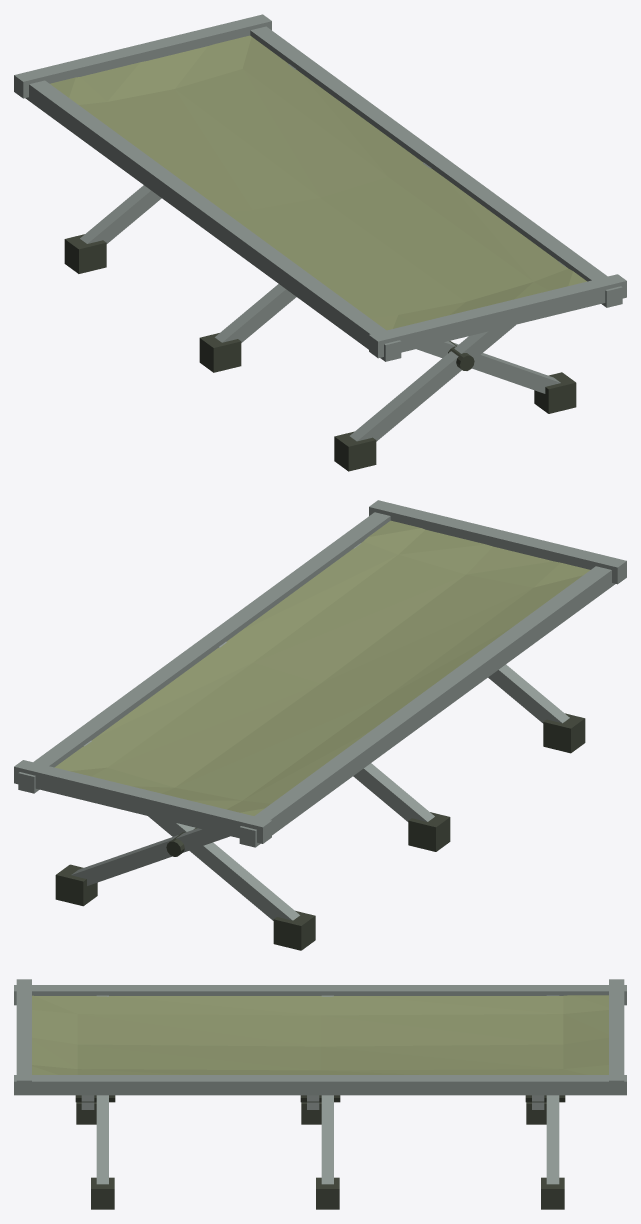
3 views of the same model, one above another, from view 1: azimuth 30°, elevation 25°; view 2: azimuth 150°, elevation 25°; view 3: azimuth 270°, elevation 25° (orthographic). The views are drawn at different scales.
Visible parts, largest first — view 1: WholeShallowSagCanvasSleepingSurface, LeftWholeLongitudinalCanvasRail, RightWholeLongitudinalCanvasRail, FootWholeRemovableStyleTensionCrossbar, HeadWholeRemovableStyleTensionCrossbar, CrossFrame0A, CrossFrame0B, CrossFrame1A, CrossFrame2A, GroundPad0L, GroundPad1L, GroundPad2L (+1 smaller); view 2: WholeShallowSagCanvasSleepingSurface, LeftWholeLongitudinalCanvasRail, RightWholeLongitudinalCanvasRail, HeadWholeRemovableStyleTensionCrossbar, FootWholeRemovableStyleTensionCrossbar, CrossFrame2A, CrossFrame2B, CrossFrame1A, CrossFrame0A, GroundPad2L, GroundPad1L, GroundPad0L (+1 smaller); view 3: WholeShallowSagCanvasSleepingSurface, RightWholeLongitudinalCanvasRail, LeftWholeLongitudinalCanvasRail, HeadWholeRemovableStyleTensionCrossbar, FootWholeRemovableStyleTensionCrossbar, CrossFrame2B, CrossFrame1B, CrossFrame0B, GroundPad0R, GroundPad1R, GroundPad2R, GroundPad0L (+2 smaller).
Part boxes in pixels (left/top/right/bottom): WholeShallowSagCanvasSleepingSurface: left=50, top=35, right=586, bottom=330; LeftWholeLongitudinalCanvasRail: left=25, top=80, right=401, bottom=361; RightWholeLongitudinalCanvasRail: left=250, top=26, right=622, bottom=307; FootWholeRemovableStyleTensionCrossbar: left=369, top=274, right=626, bottom=358; HeadWholeRemovableStyleTensionCrossbar: left=14, top=14, right=271, bottom=98; CrossFrame0A: left=350, top=261, right=565, bottom=441; CrossFrame0B: left=416, top=341, right=560, bottom=393; CrossFrame1A: left=215, top=162, right=430, bottom=342; CrossFrame2A: left=80, top=64, right=296, bottom=243; GroundPad0L: left=334, top=431, right=376, bottom=471; GroundPad1L: left=199, top=333, right=241, bottom=372; GroundPad2L: left=64, top=234, right=106, bottom=273; WholeShallowSagCanvasSleepingSurface: left=54, top=520, right=589, bottom=815; LeftWholeLongitudinalCanvasRail: left=239, top=566, right=615, bottom=847; RightWholeLongitudinalCanvasRail: left=18, top=512, right=390, bottom=793; HeadWholeRemovableStyleTensionCrossbar: left=14, top=760, right=271, bottom=843; FootWholeRemovableStyleTensionCrossbar: left=369, top=500, right=626, bottom=584; CrossFrame2A: left=84, top=740, right=299, bottom=920; CrossFrame2B: left=71, top=828, right=229, bottom=885; CrossFrame1A: left=218, top=642, right=434, bottom=821; CrossFrame0A: left=353, top=543, right=569, bottom=723; GroundPad2L: left=273, top=910, right=315, bottom=950; GroundPad1L: left=408, top=812, right=450, bottom=851; GroundPad0L: left=543, top=713, right=585, bottom=753; WholeShallowSagCanvasSleepingSurface: left=32, top=995, right=608, bottom=1074; RightWholeLongitudinalCanvasRail: left=14, top=1075, right=626, bottom=1095; LeftWholeLongitudinalCanvasRail: left=14, top=985, right=626, bottom=1005; HeadWholeRemovableStyleTensionCrossbar: left=609, top=979, right=624, bottom=1094; FootWholeRemovableStyleTensionCrossbar: left=16, top=979, right=31, bottom=1094; CrossFrame2B: left=546, top=995, right=559, bottom=1184; CrossFrame1B: left=321, top=995, right=333, bottom=1184; CrossFrame0B: left=96, top=995, right=108, bottom=1184; GroundPad0R: left=91, top=1177, right=114, bottom=1209; GroundPad1R: left=316, top=1177, right=339, bottom=1209; GroundPad2R: left=541, top=1177, right=564, bottom=1209; GroundPad0L: left=76, top=1102, right=96, bottom=1124.
Size of the model in its own units: 0.81 by 0.49 by 2.07.
